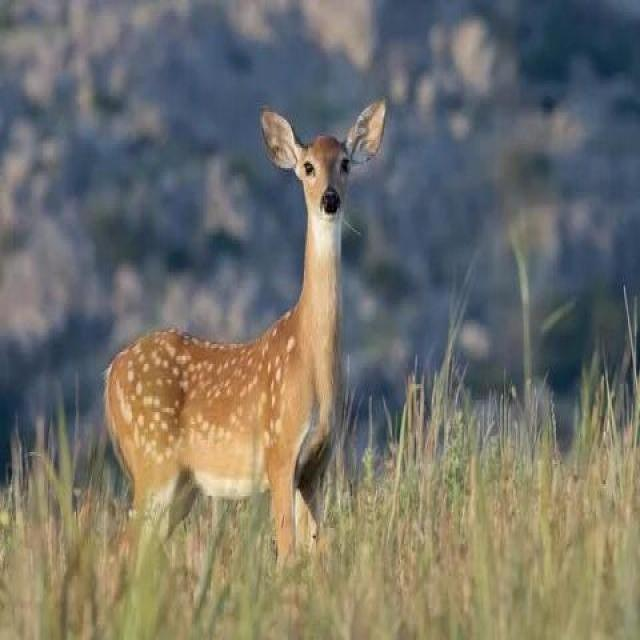deer: (70, 45, 466, 598)
